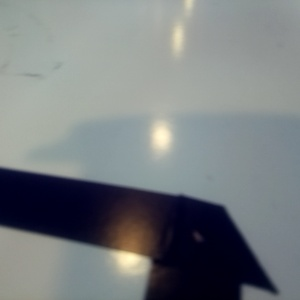top_right: (184, 41, 264, 80), (16, 1, 84, 26)
